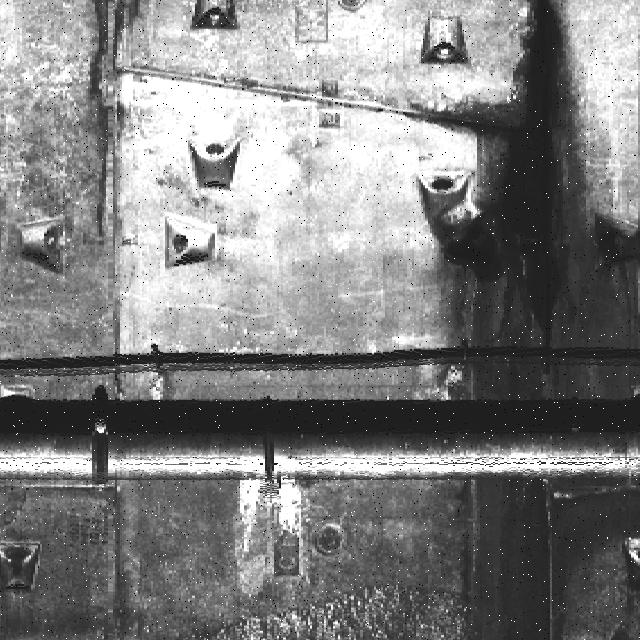leakage: (417, 0, 640, 398), (447, 463, 633, 639)
